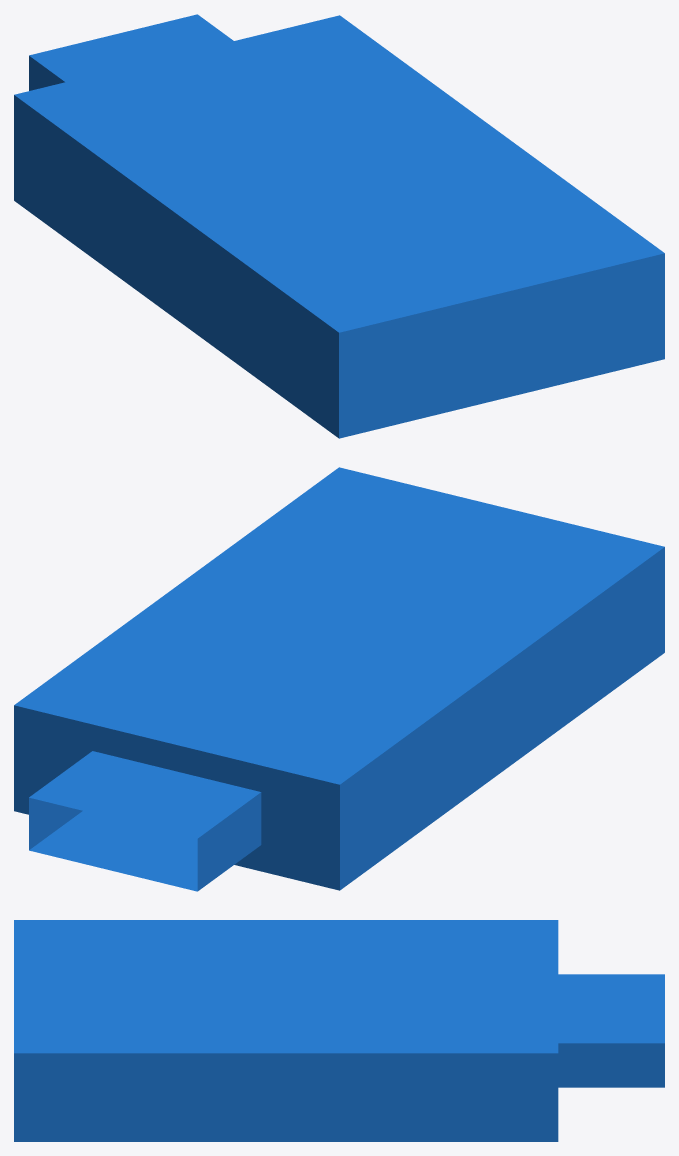
File: wipe.glb
3 renders of one model, top to bottom at view 1: azimuth 30°, elevation 25°; view 2: azimuth 150°, elevation 25°; view 3: azimuth 270°, elevation 25°, orthographic. The views are drawn at different scales.
Visible parts, largest first — view 1: Plane.098; view 2: Plane.098; view 3: Plane.098.
Boxes of the visible parts, <box> form: Plane.098: <box>14,14,664,438</box>; Plane.098: <box>14,467,664,891</box>; Plane.098: <box>14,920,664,1141</box>.
Size of the model in its own units: 0.0398 by 0.0123 by 0.0822.
